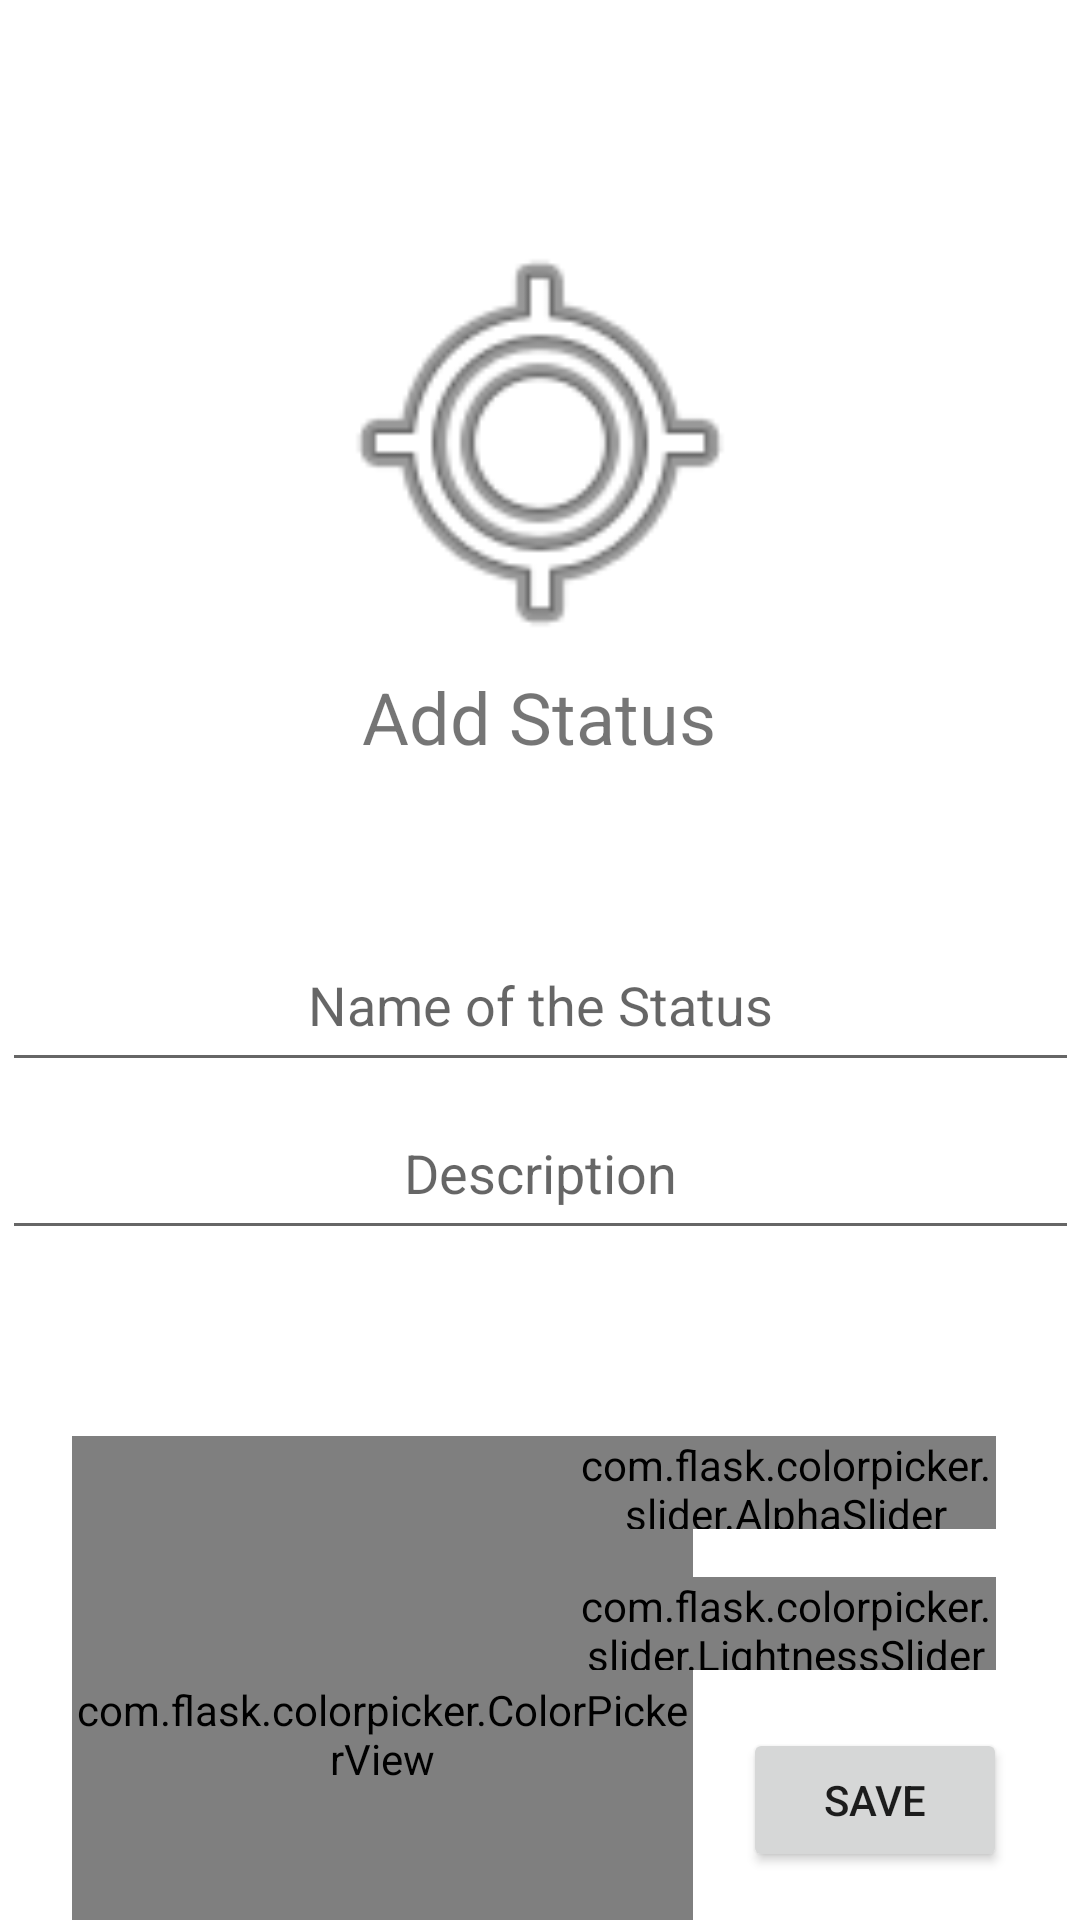

Where icons sit on this 1080 × 1920 app screen, as (x1, y1, x2, y2):
mylocation: (360, 263, 720, 623)
